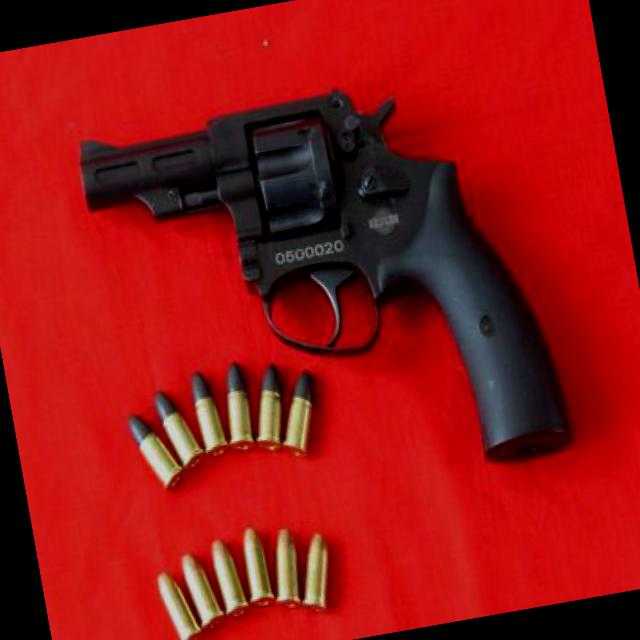handgun: (70, 57, 570, 527)
